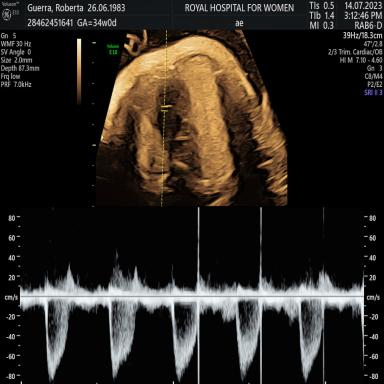Ultrasound-Waves: (23, 212, 362, 380)
